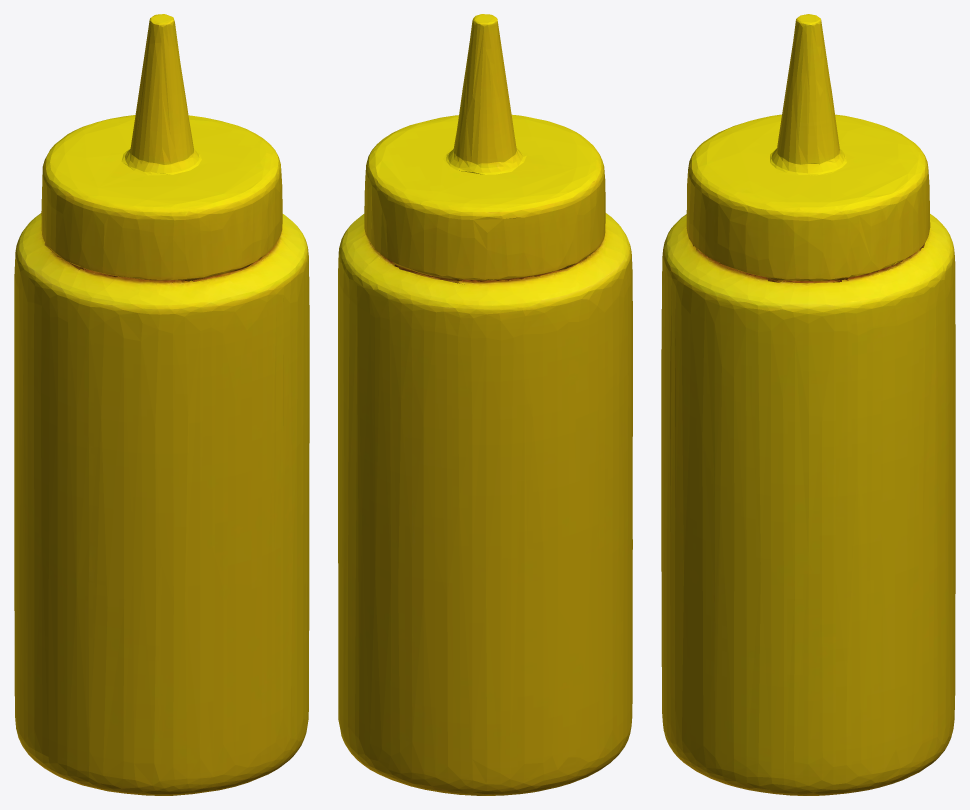
The picture shows the model from 3 angles, left to right: view 1: azimuth 30°, elevation 25°; view 2: azimuth 150°, elevation 25°; view 3: azimuth 270°, elevation 25°; orthographic projection.
Parts seen in each view (by area): view 1: geometry_0; view 2: geometry_0; view 3: geometry_0.
Part boxes in pixels (x1,y1,x2,y2): geometry_0: (14, 14, 309, 795); geometry_0: (338, 14, 632, 795); geometry_0: (661, 14, 955, 795).
Size of the model in its own units: 0.3694 by 0.9997 by 0.3684.
Materials: 1 (1 with a texture image).
